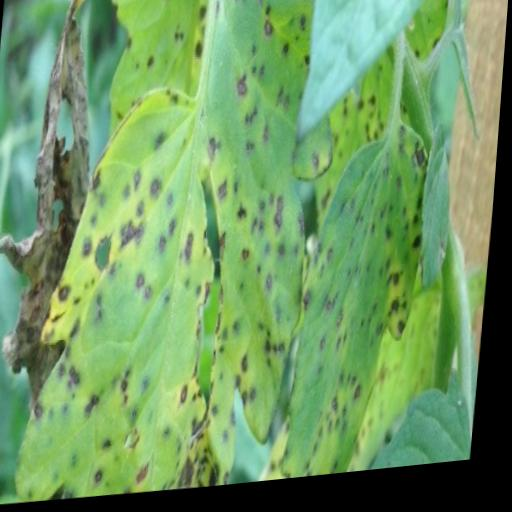Septoria: (18, 0, 335, 508), (287, 113, 435, 486)
